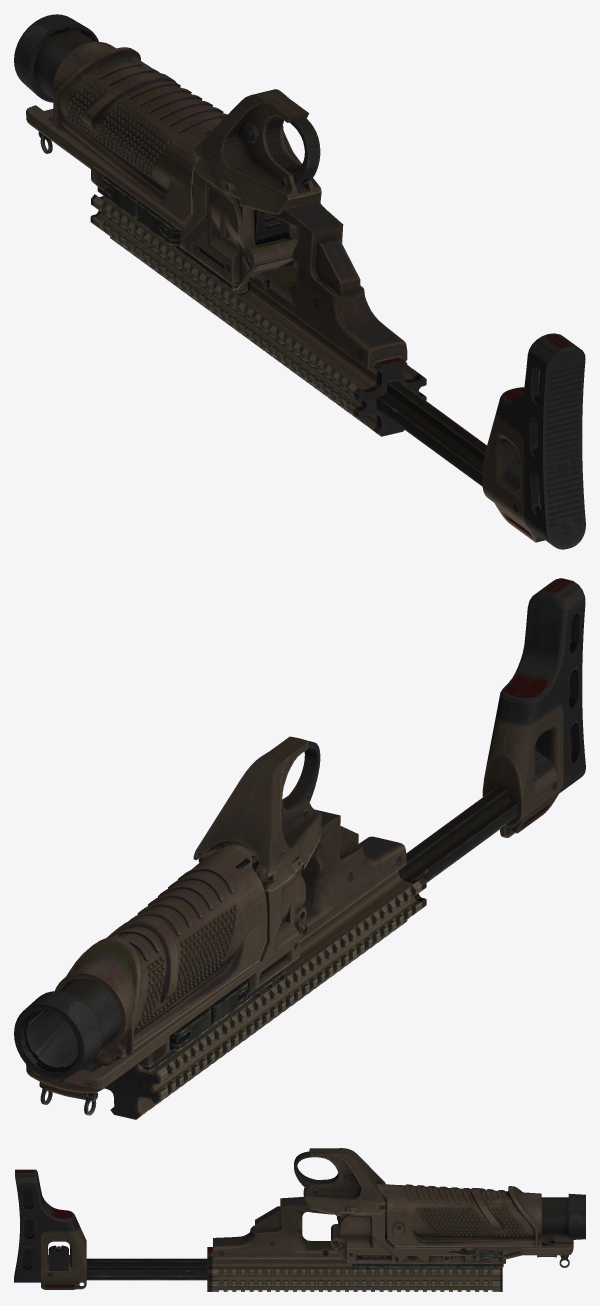
The picture shows the model from 3 angles, top to bottom: view 1: azimuth 30°, elevation 25°; view 2: azimuth 150°, elevation 25°; view 3: azimuth 270°, elevation 25°; orthographic projection. The views are drawn at different scales.
Visible parts, largest first — view 1: TW_5e81ebcd8e146c7080625e15_PZ_Import; view 2: TW_5e81ebcd8e146c7080625e15_PZ_Import; view 3: TW_5e81ebcd8e146c7080625e15_PZ_Import.
Part boxes in pixels (x1,y1,x2,y2): TW_5e81ebcd8e146c7080625e15_PZ_Import: (14, 14, 585, 549); TW_5e81ebcd8e146c7080625e15_PZ_Import: (14, 578, 585, 1119); TW_5e81ebcd8e146c7080625e15_PZ_Import: (14, 1148, 585, 1291).
Size of the model in its own units: 0.0415 by 0.3812 by 0.1015.
1 material, 1 textured.
